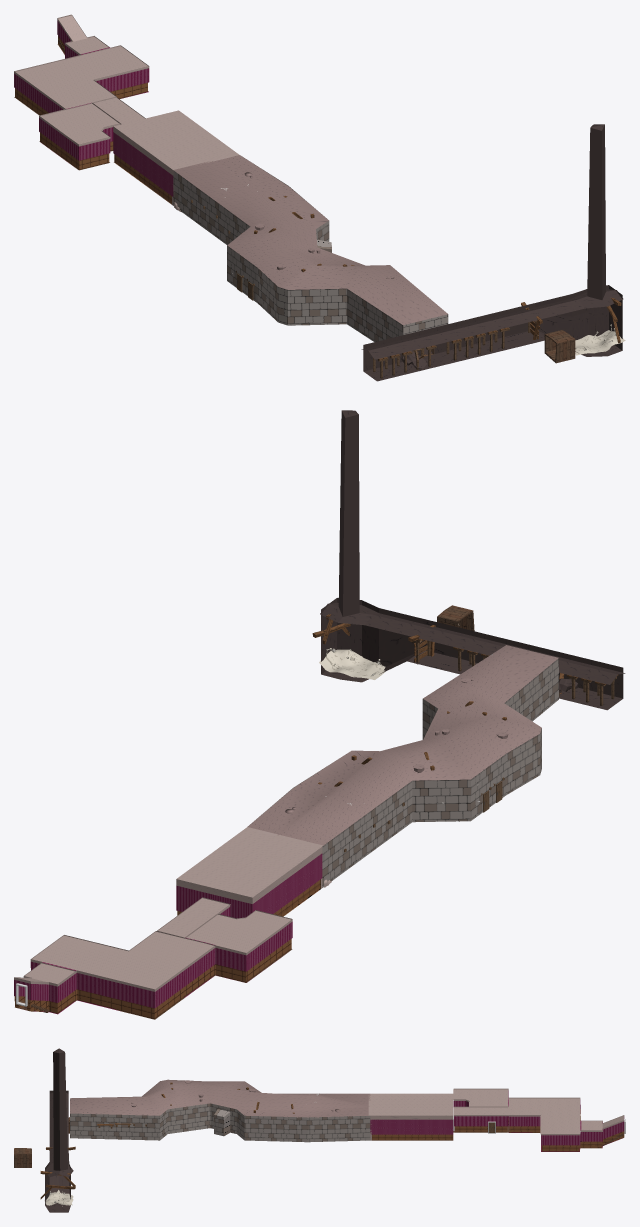
File: nowy level lol.fbx
The picture shows the model from 3 angles, top to bottom: view 1: azimuth 30°, elevation 25°; view 2: azimuth 150°, elevation 25°; view 3: azimuth 270°, elevation 25°; orthographic projection. The views are drawn at different scales.
Visible parts, largest first — view 1: Cube.016, Cube, SUFITY, dach, Cube.047, sciany.001, Cube.022, Cube.015, Cube.049, Plane.017, Cube.048, Cube.050; view 2: Cube.016, Cube, SUFITY, sciany.001, dach, Cube.047, Cube.022, Cube.015, Plane.017; view 3: Cube, Cube.016, SUFITY, sciany.001, dach, Cube.015, Cube.022, Cube.047, Cube.049, Plane.017.
Part boxes in pixels (box(x1,y1,x2,y2)): Cube.016: box(173, 155, 447, 325); Cube: box(173, 163, 448, 341); SUFITY: box(15, 15, 149, 145); dach: box(361, 124, 623, 359); Cube.047: box(363, 285, 622, 381); sciany.001: box(14, 14, 149, 169); Cube.022: box(114, 110, 238, 169); Cube.015: box(113, 126, 173, 204); Cube.049: box(544, 330, 575, 363); Plane.017: box(575, 330, 625, 355); Cube.048: box(446, 327, 509, 360); Cube.050: box(368, 345, 436, 378); Cube.016: box(247, 645, 558, 845); Cube: box(254, 658, 558, 887); SUFITY: box(18, 898, 291, 989); sciany.001: box(14, 897, 292, 1019); dach: box(320, 410, 625, 684); Cube.047: box(321, 598, 623, 710); Cube.022: box(177, 829, 320, 897); Cube.015: box(176, 847, 322, 918); Plane.017: box(319, 649, 385, 679); Cube: box(70, 1103, 370, 1142); Cube.016: box(70, 1079, 370, 1117); SUFITY: box(453, 1089, 623, 1134); sciany.001: box(453, 1088, 624, 1151); dach: box(45, 1048, 73, 1177); Cube.015: box(370, 1115, 453, 1140); Cube.022: box(370, 1093, 453, 1115); Cube.047: box(45, 1090, 70, 1212); Cube.049: box(14, 1148, 31, 1167); Plane.017: box(44, 1190, 73, 1205).
Bounding box in the file's own units: 44.96 × 130 × 36.6.
Materials: 25 (25 with a texture image).
